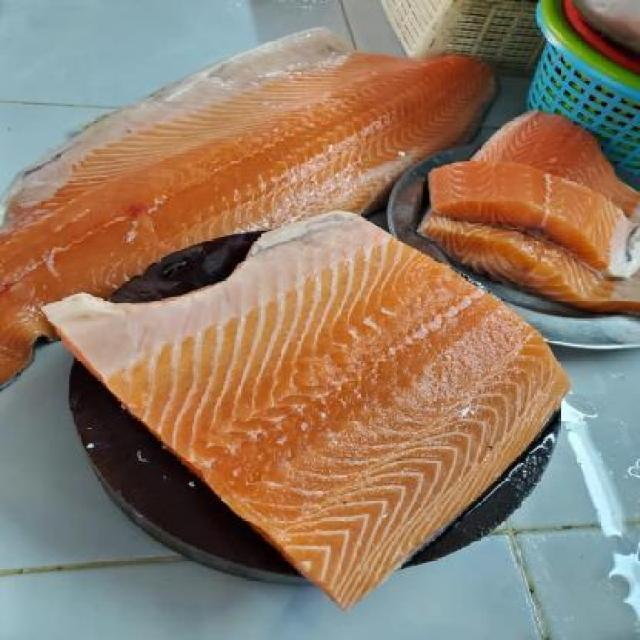salmon: (26, 211, 593, 605), (2, 14, 500, 391), (392, 96, 640, 312)
